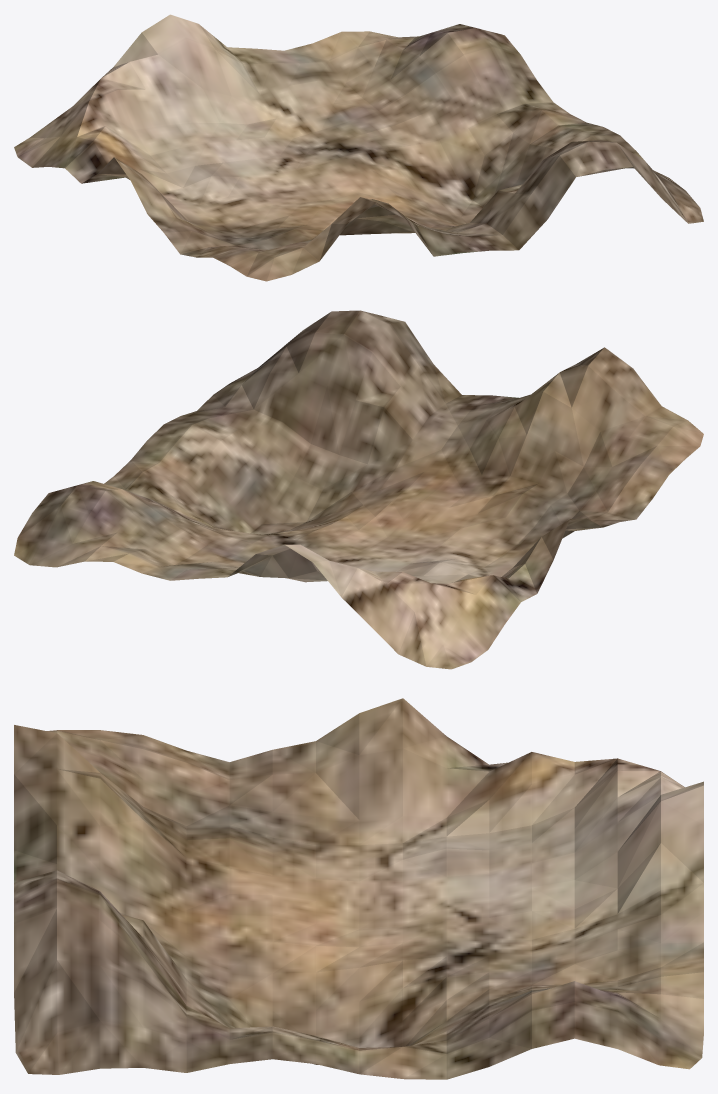
Rendered from terrain.obj.
The picture shows the model from 3 angles, top to bottom: view 1: azimuth 30°, elevation 25°; view 2: azimuth 150°, elevation 25°; view 3: azimuth 270°, elevation 25°; orthographic projection. The views are drawn at different scales.
Parts seen in each view (by area): view 1: Plane; view 2: Plane; view 3: Plane.
Boxes of the visible parts, left/top/right/bottom form: Plane: left=14, top=14, right=703, bottom=281; Plane: left=14, top=310, right=703, bottom=669; Plane: left=14, top=698, right=703, bottom=1079.
Bounding box in the file's own units: 18.13 × 5.74 × 18.13.
